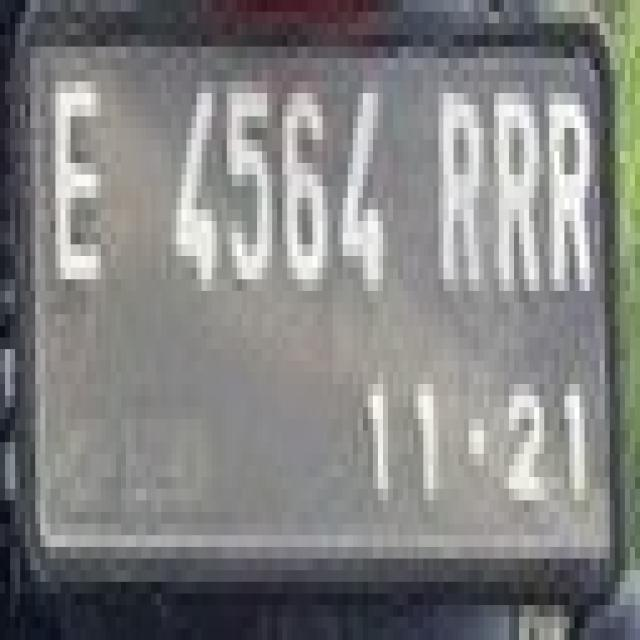plate: (20, 11, 615, 594)
